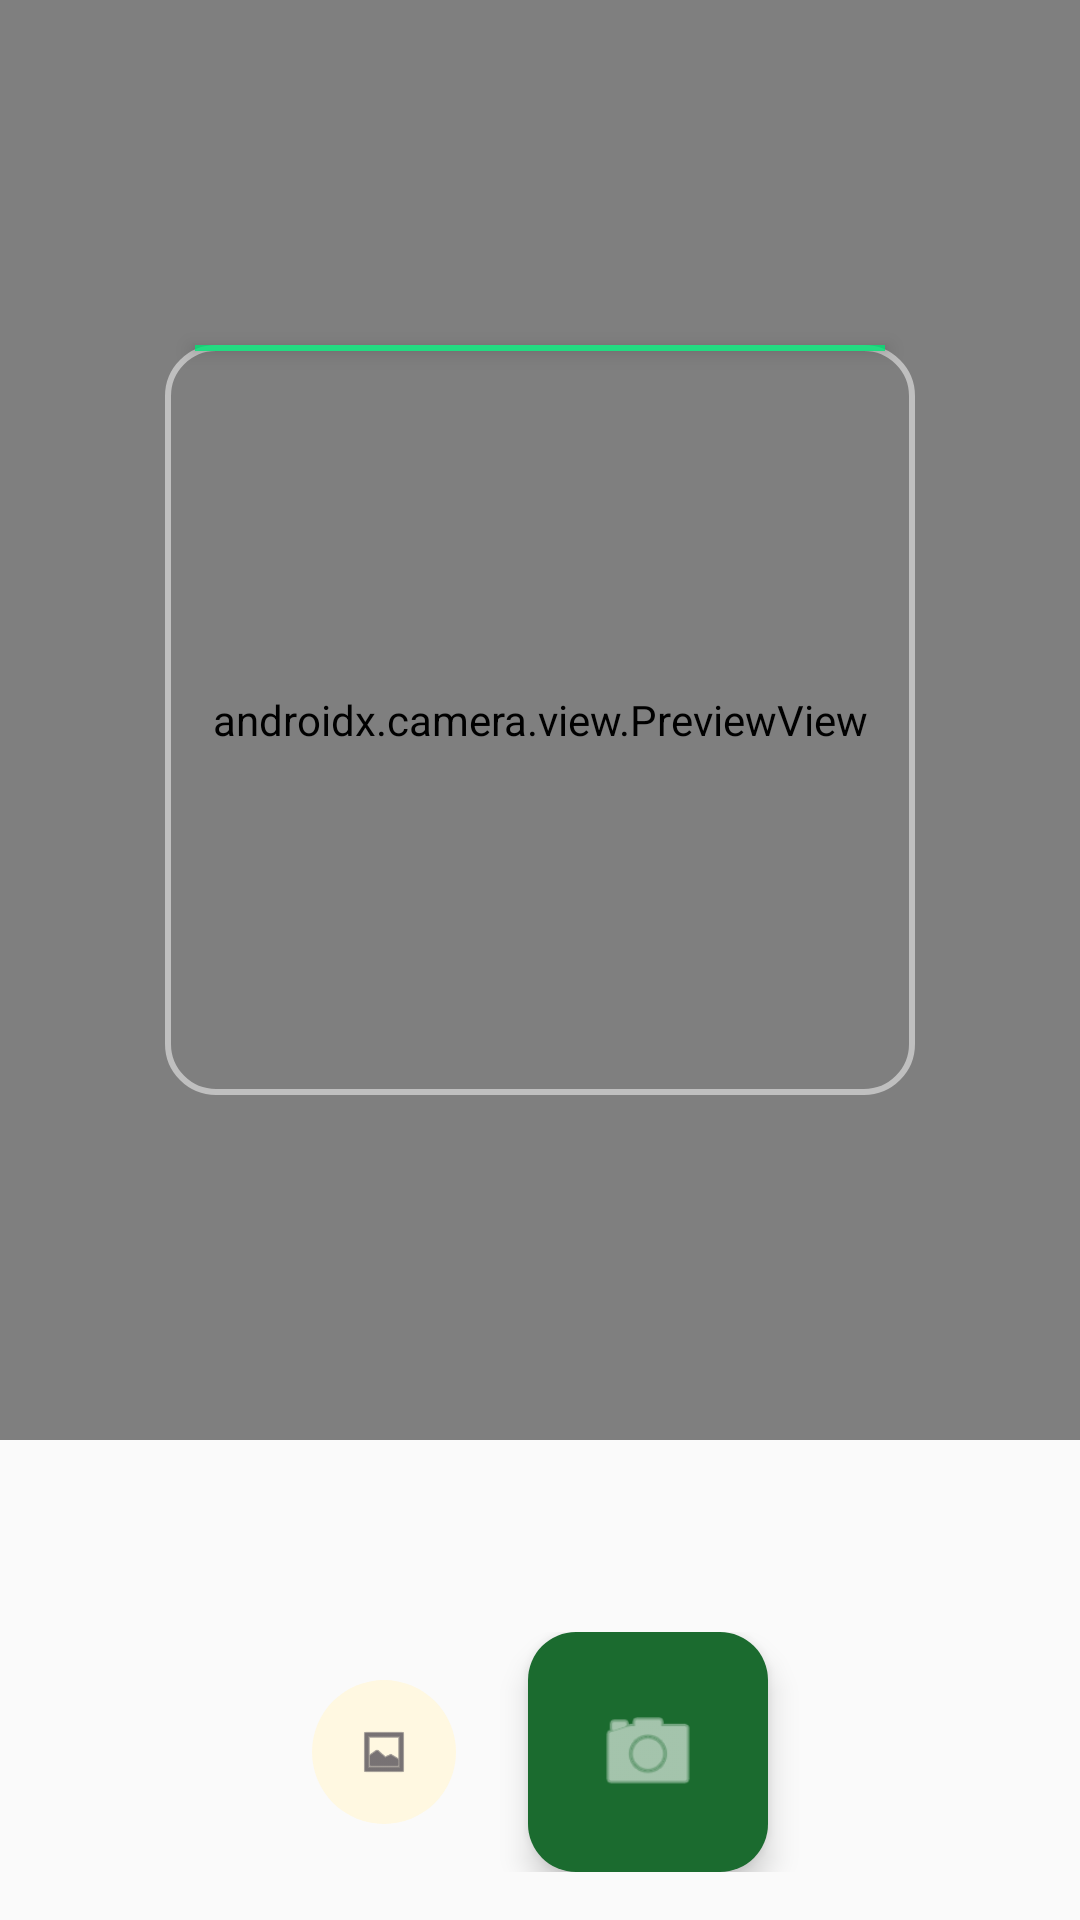

Where to tap for icons on this 1080x1920 app screen, as (x,y):
Tap to Scan Your Plant: (648,1752)
Upload Photo: (384,1752)
